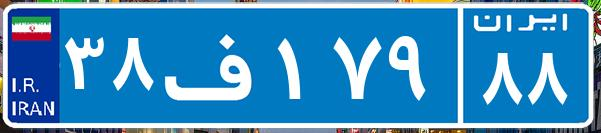1: (273, 28, 330, 110)
3: (57, 26, 110, 107)
7: (330, 28, 385, 110)
8: (475, 38, 525, 113), (110, 28, 158, 105), (525, 38, 570, 115)
9: (385, 28, 445, 110)
ف: (158, 15, 273, 115)
